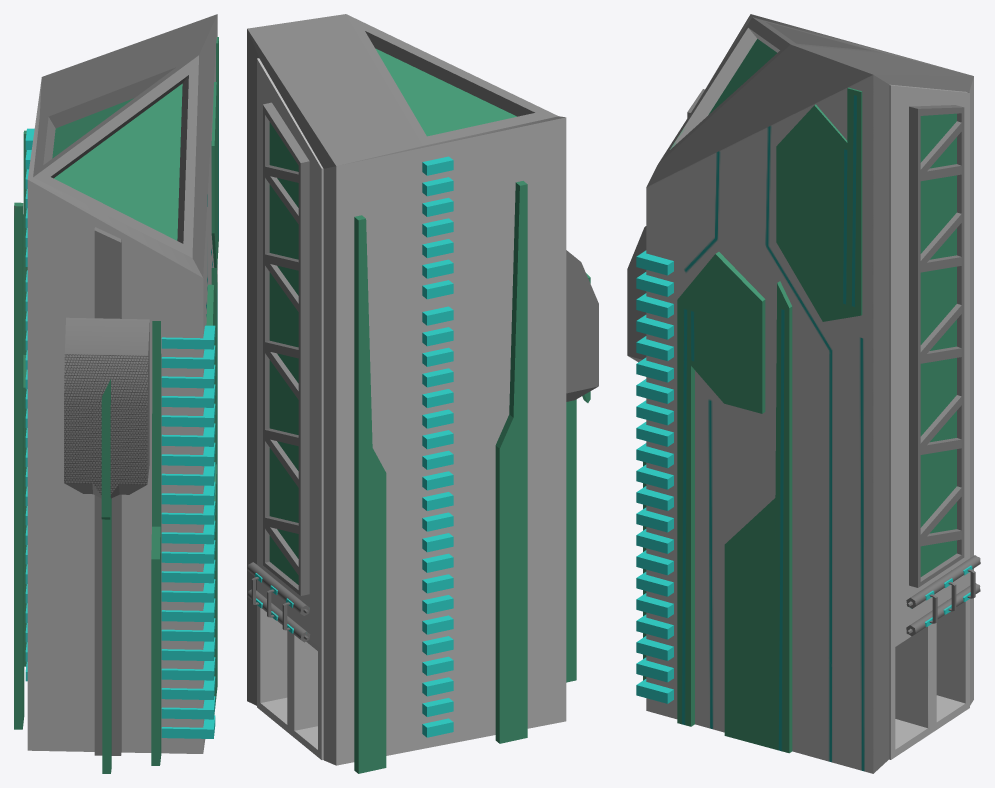
Rendered from SM_Building_04_SM_B4_Part2.fbx.
3 renders of one model, left to right at view 1: azimuth 30°, elevation 25°; view 2: azimuth 150°, elevation 25°; view 3: azimuth 270°, elevation 25°, orthographic. The views are drawn at different scales.
Visible parts, largest first — view 1: SM_Building_04_SM_B4_Part2; view 2: SM_Building_04_SM_B4_Part2; view 3: SM_Building_04_SM_B4_Part2.
Boxes of the visible parts, <box> form: SM_Building_04_SM_B4_Part2: <box>14,14,218,773</box>; SM_Building_04_SM_B4_Part2: <box>247,14,598,773</box>; SM_Building_04_SM_B4_Part2: <box>627,14,980,773</box>.
Bounding box in the file's own units: 2366 × 2679 × 5847.
Materials: 1 (1 with a texture image).
